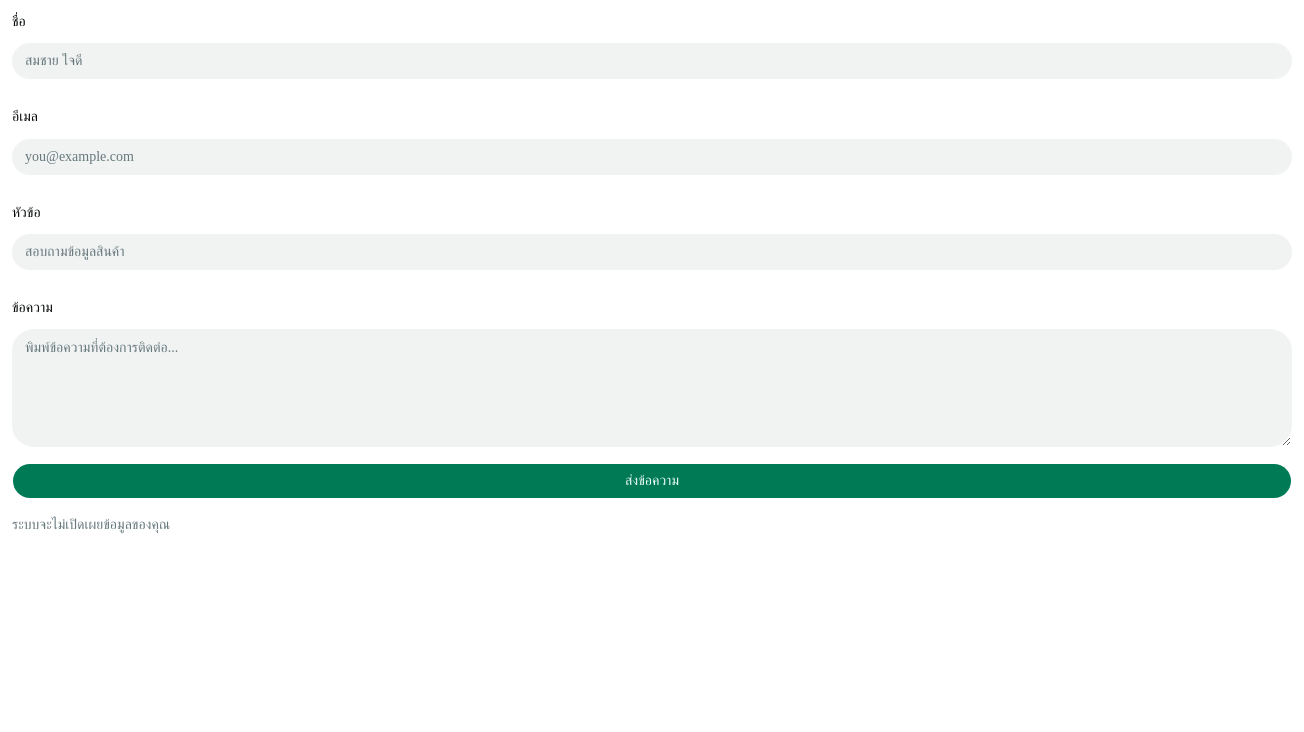
ContactForm › shows validation errors for invalid input
Click the button "ส่งข้อความ".
click(652, 481)  # box [12,463,1292,499]
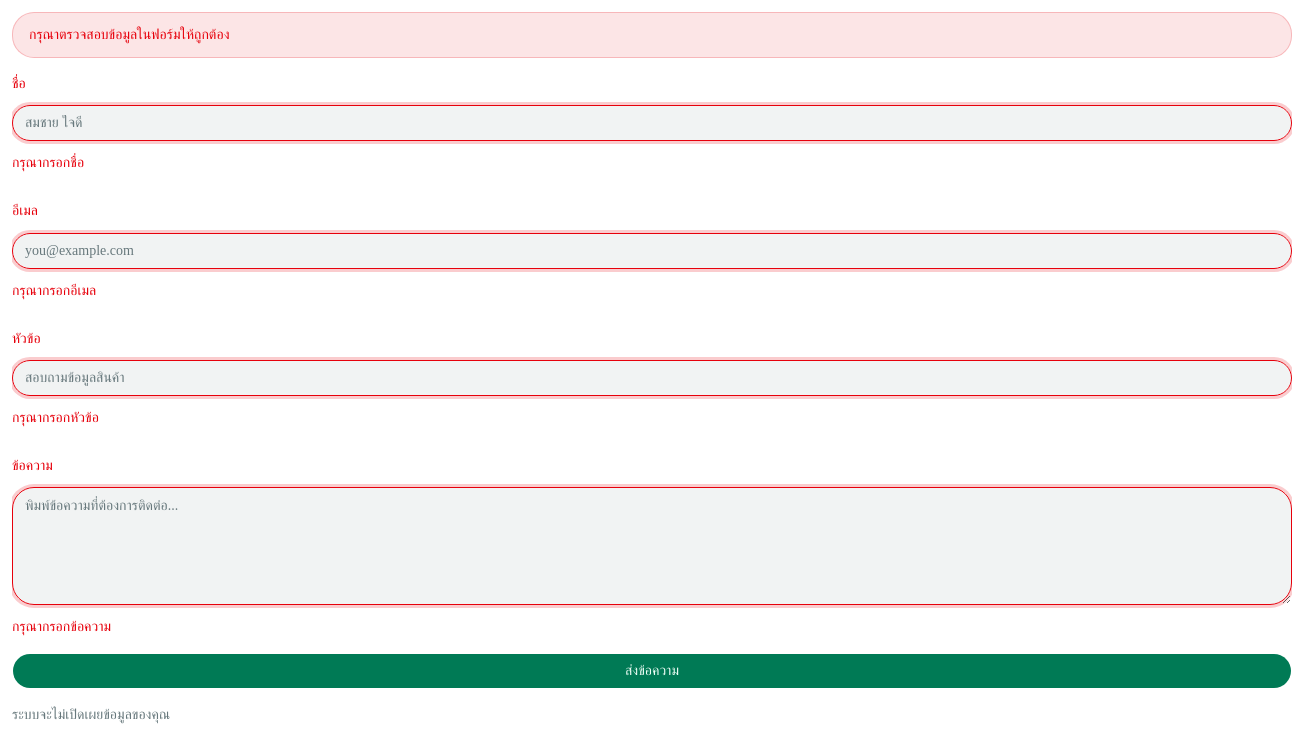
Expected: the text "กรุณากรอกชื่อ" is shown, [12,155,84,170]
Expected: the text "กรุณากรอกอีเมล" is shown, [12,282,96,298]
Expected: the text "กรุณากรอกหัวข้อ" is shown, [12,410,99,425]
